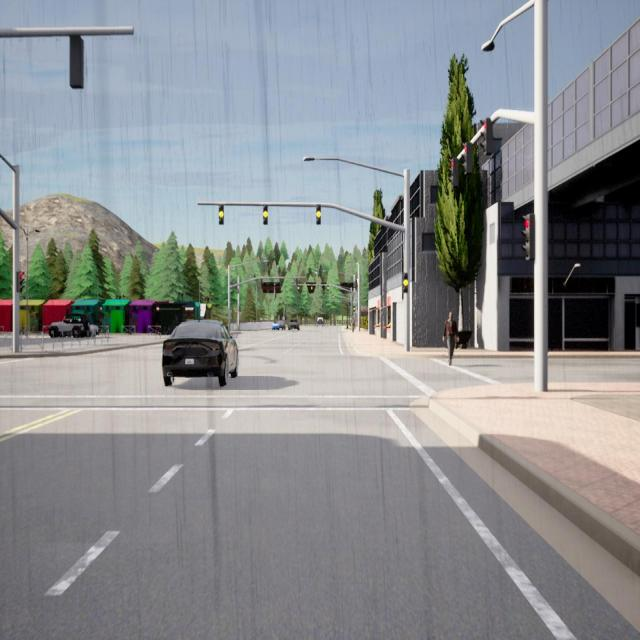Pedestrian: (442, 311, 458, 365), (351, 316, 356, 333)
Vehicle: (163, 320, 238, 385), (49, 313, 88, 339), (288, 318, 300, 331), (89, 324, 100, 338), (278, 320, 286, 330), (272, 320, 280, 330), (317, 317, 324, 328)
traffic_light: (69, 30, 84, 89), (522, 214, 534, 261), (480, 118, 493, 155), (462, 142, 472, 175), (449, 158, 459, 188), (16, 271, 25, 293), (402, 273, 408, 293), (219, 204, 224, 225), (316, 204, 321, 224), (263, 205, 268, 225), (280, 278, 282, 286), (298, 285, 300, 292), (296, 278, 298, 285), (354, 306, 356, 312), (332, 294, 334, 300), (327, 285, 329, 291), (311, 286, 313, 292), (261, 279, 262, 285), (239, 306, 240, 312)
